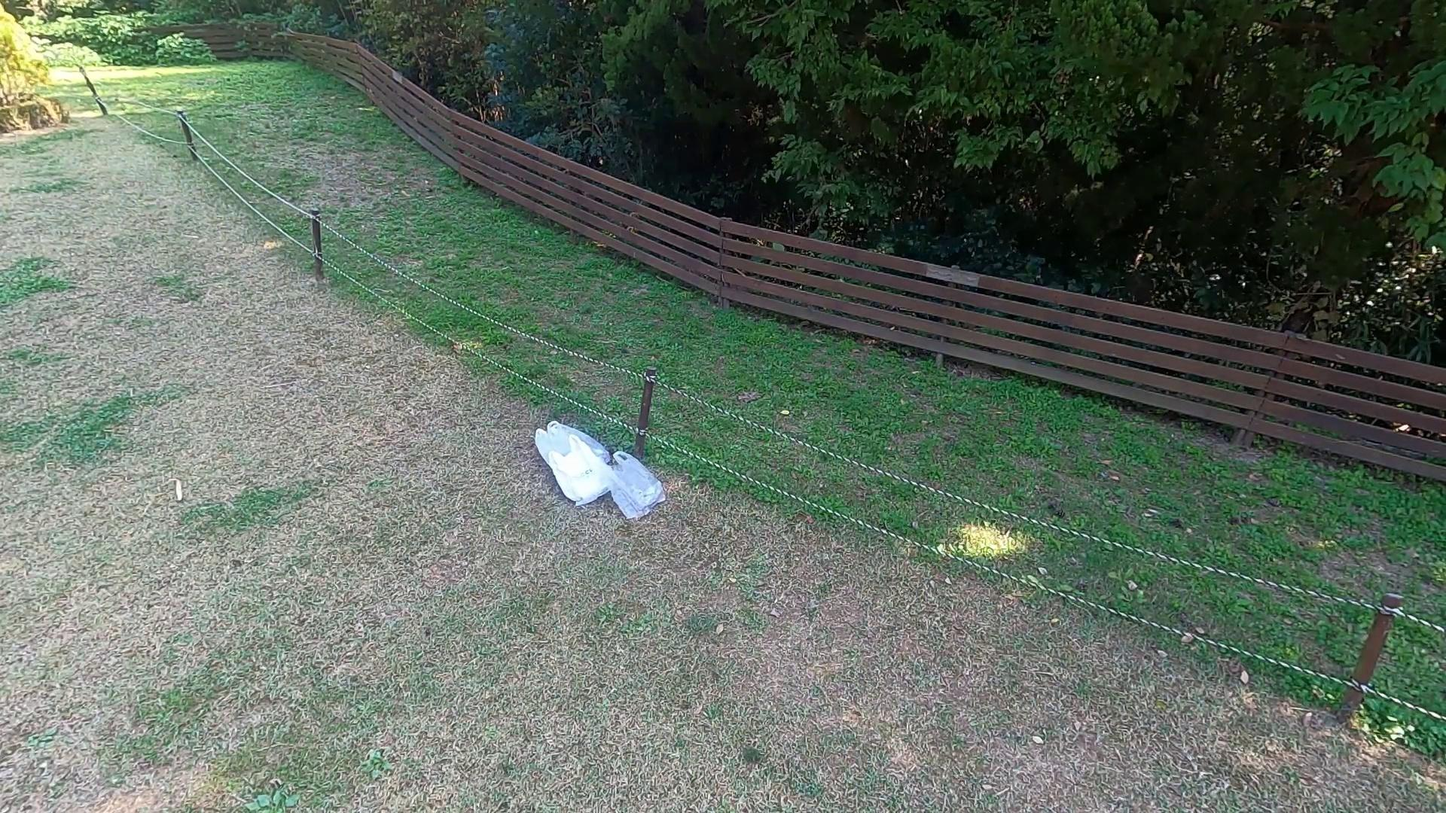trash: (533, 410, 617, 493), (536, 430, 621, 509), (584, 450, 671, 524)
